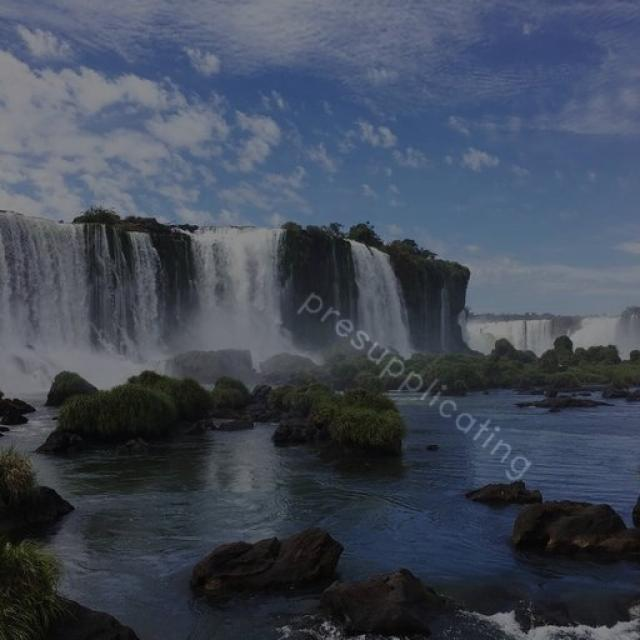watermark: (290, 275, 549, 485)
